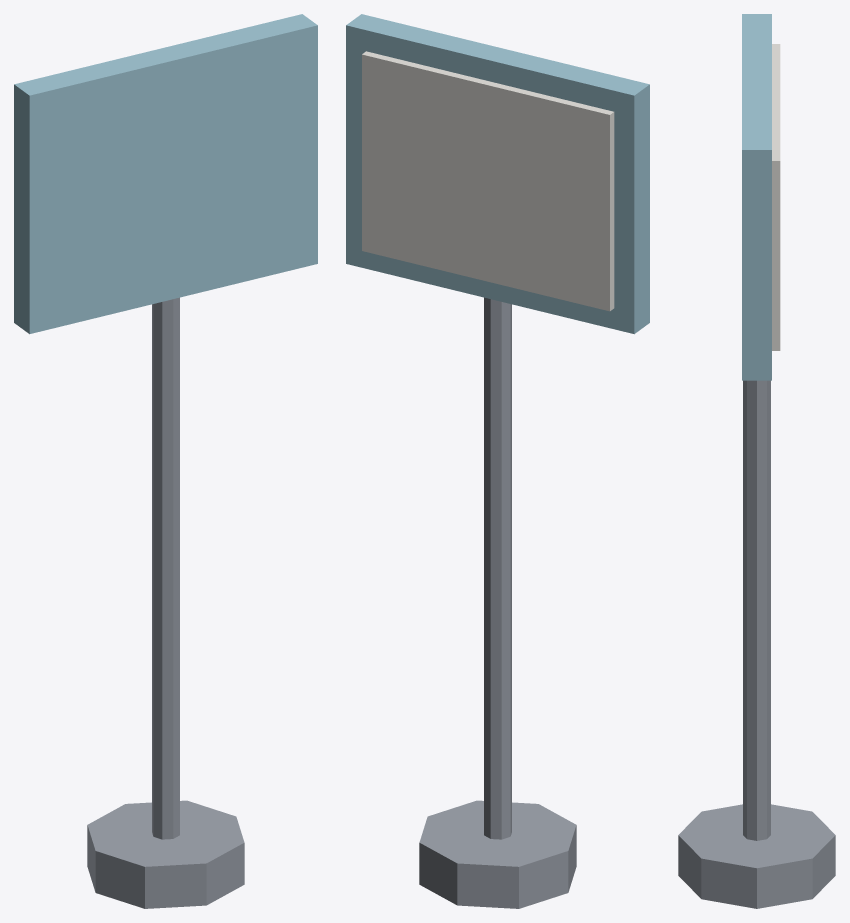
The picture shows the model from 3 angles, left to right: view 1: azimuth 30°, elevation 25°; view 2: azimuth 150°, elevation 25°; view 3: azimuth 270°, elevation 25°; orthographic projection. The views are drawn at different scales.
Visible parts, largest first — view 1: Sign, Pole, Base; view 2: Border, Sign, Pole, Base; view 3: Base, Pole, Sign, Border.
Part boxes in pixels (x1,y1,x2,y2): Sign: [14, 14, 317, 334]; Pole: [152, 297, 179, 839]; Base: [87, 800, 244, 908]; Border: [362, 51, 614, 311]; Sign: [346, 14, 649, 334]; Pole: [484, 297, 511, 839]; Base: [419, 800, 576, 908]; Base: [678, 804, 835, 908]; Pole: [743, 380, 770, 840]; Sign: [742, 14, 771, 380]; Border: [772, 44, 780, 350].
Bounding box in the file's own units: 0.86 × 2.34 × 0.42.
